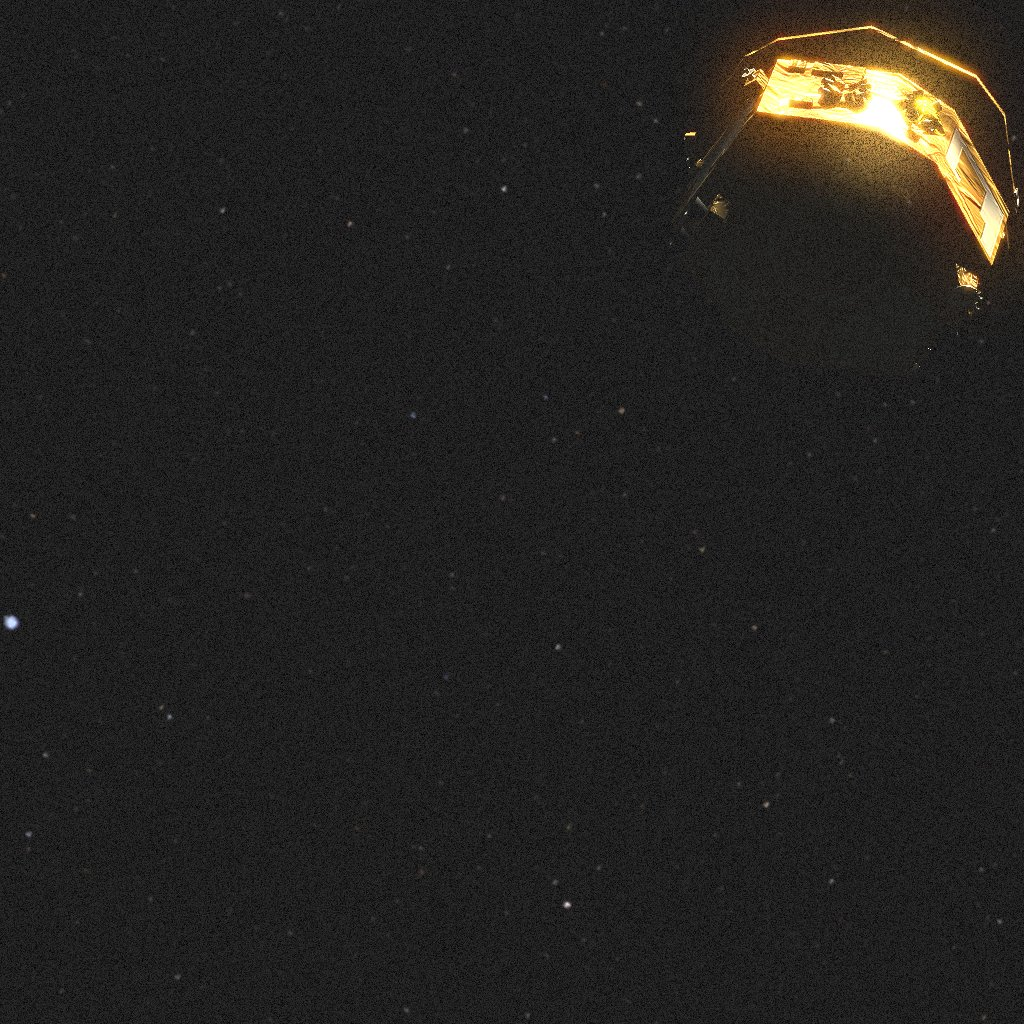lisa_pathfinder: (669, 26, 1024, 378)
